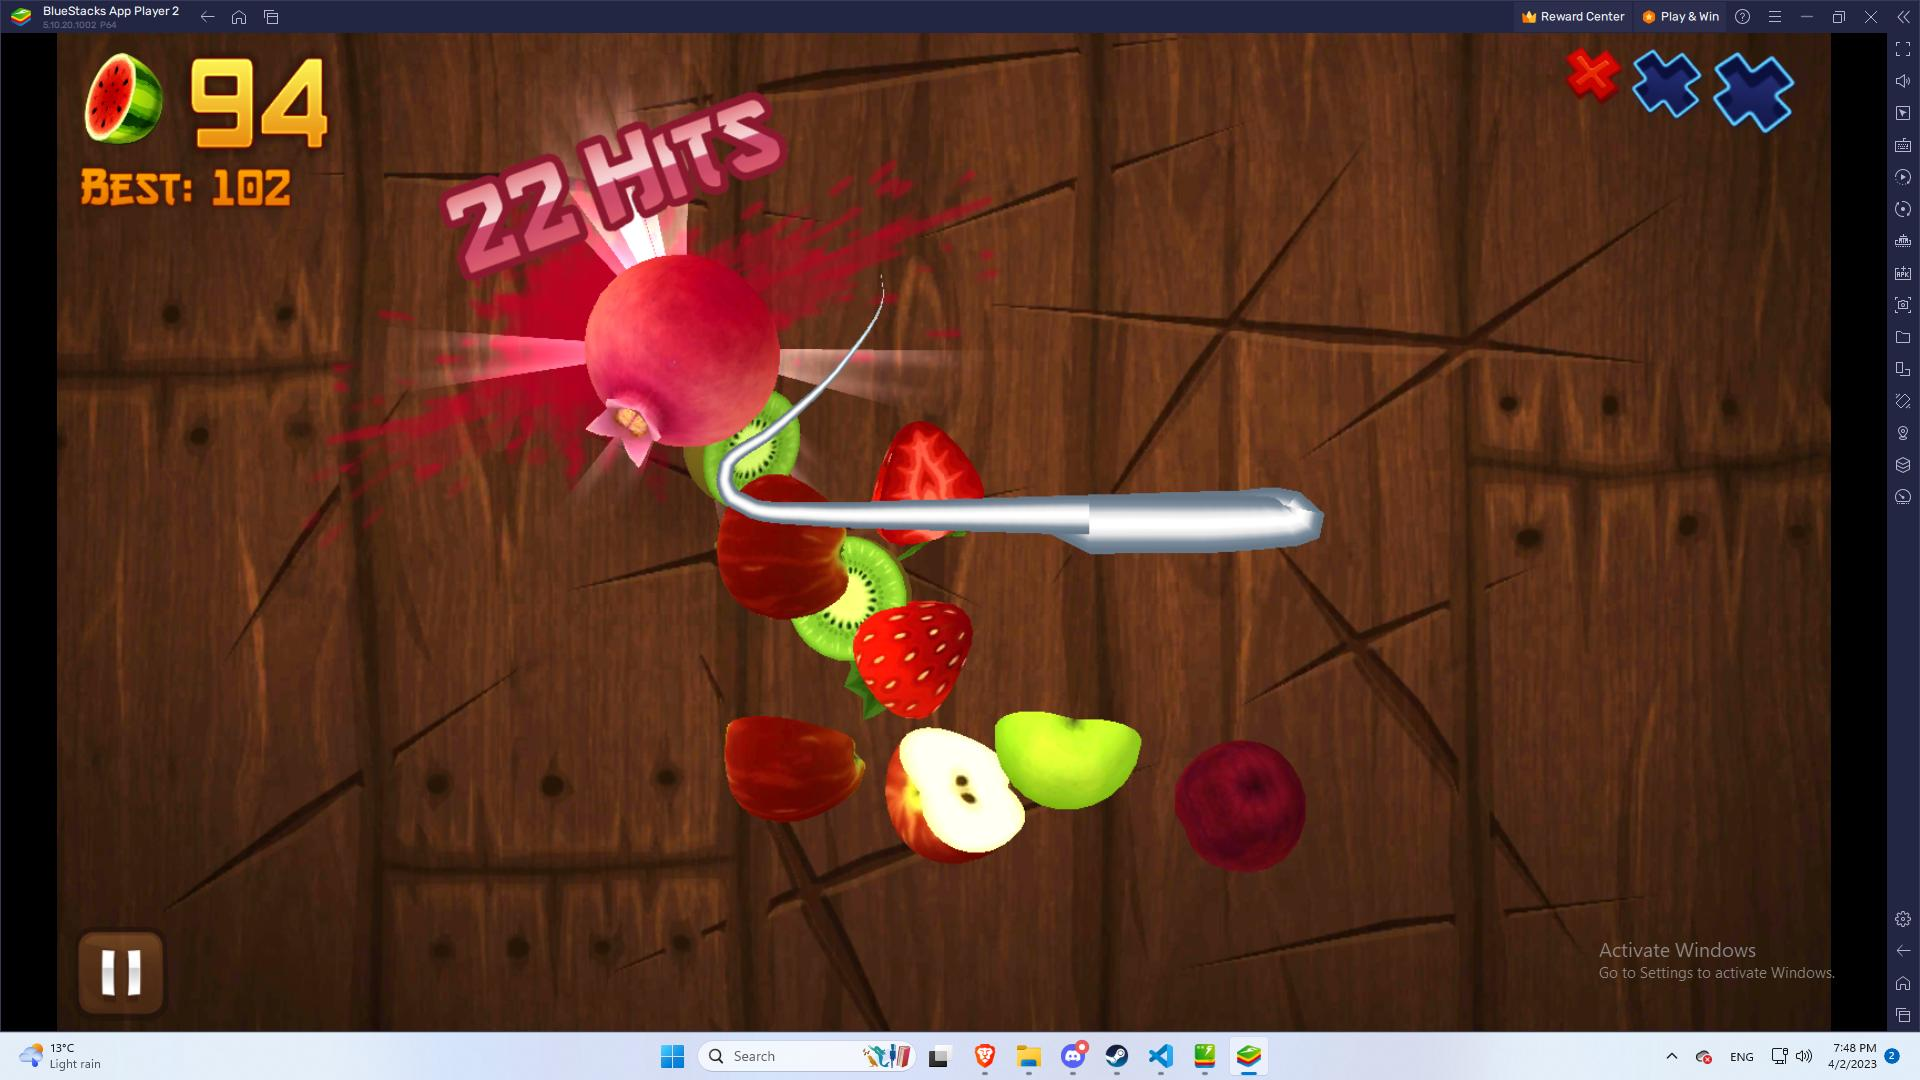fruit: (1176, 724, 1317, 891)
